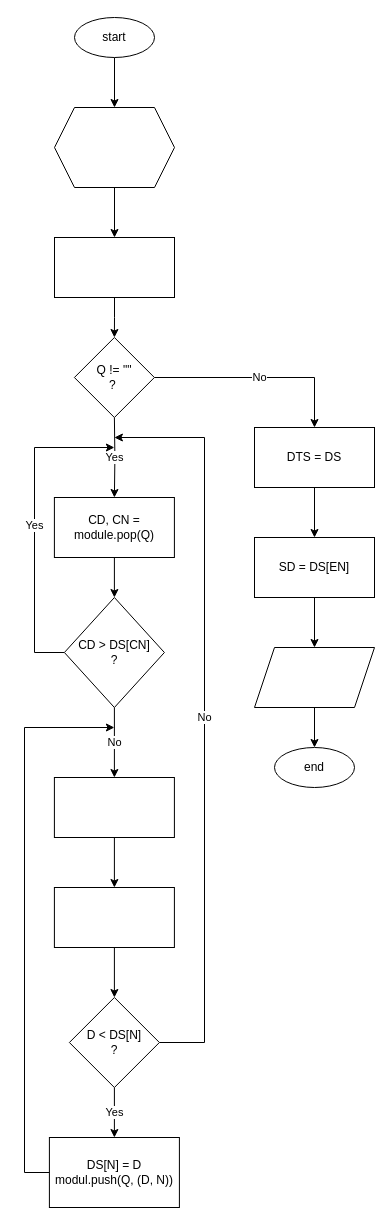
This 392x1225 diagram has some shape labels left out. The box of each missing label's shape, as (x1, y1, x2, y2) in pixels:
D = CD + W: (53, 886, 174, 948)
DS = loop(G) Q = [(0, SN)]: (54, 236, 174, 298)
N, W = G[CN]: (53, 776, 174, 838)
print SD: (254, 646, 374, 708)
SN, EN, CNM, G: (54, 106, 174, 188)
